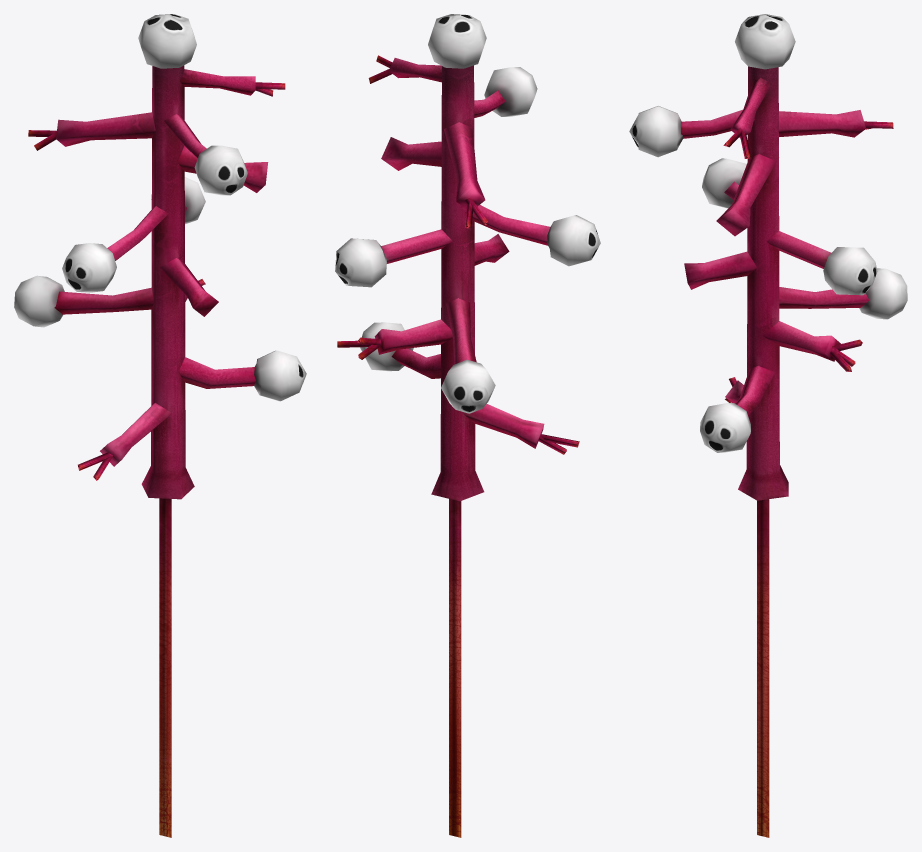
The model's file is facep.fbx.
3 views of the same model, side by side, from view 1: azimuth 30°, elevation 25°; view 2: azimuth 150°, elevation 25°; view 3: azimuth 270°, elevation 25° (orthographic).
Parts seen in each view (by area): view 1: facep_Mesh_001; view 2: facep_Mesh_001; view 3: facep_Mesh_001.
Boxes of the visible parts, x1,y1,x2,y2 form: facep_Mesh_001: (14, 14, 306, 837); facep_Mesh_001: (335, 14, 600, 837); facep_Mesh_001: (629, 14, 907, 837).
Bounding box in the file's own units: 17.73 × 59.3 × 18.27.
